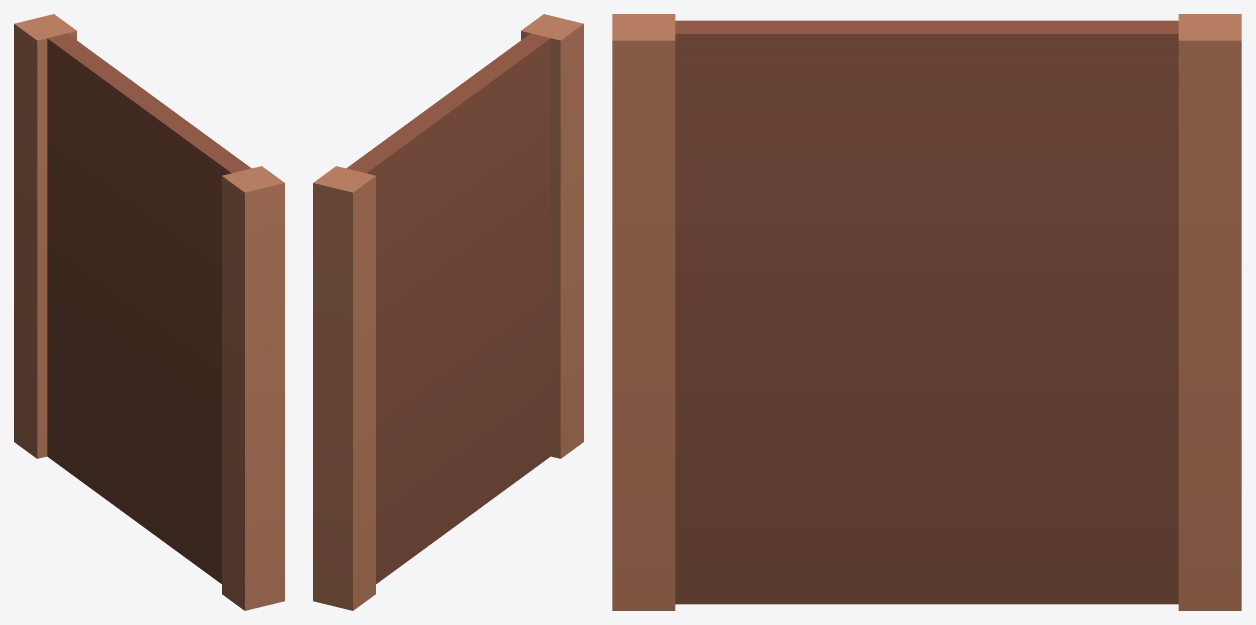
The model's file is ot-wall-wood.glb.
3 views of the same model, side by side, from view 1: azimuth 30°, elevation 25°; view 2: azimuth 150°, elevation 25°; view 3: azimuth 270°, elevation 25° (orthographic). The views are drawn at different scales.
Visible parts, largest first — view 1: wall-wood; view 2: wall-wood; view 3: wall-wood.
Boxes of the visible parts, bbox=[...] form: wall-wood: bbox=[14, 14, 284, 610]; wall-wood: bbox=[313, 14, 583, 610]; wall-wood: bbox=[612, 14, 1241, 610].
Size of the model in its own units: 0.1 by 1 by 1.
Materials: 1 (1 with a texture image).
